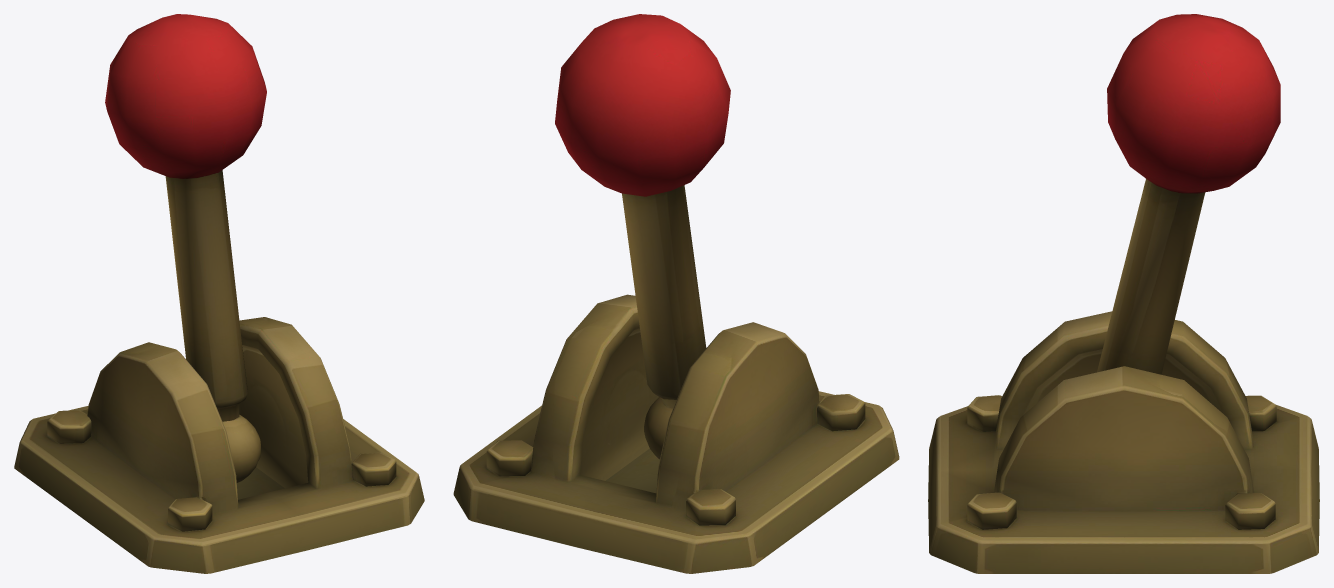
File: lever.glb
3 renders of one model, left to right at view 1: azimuth 30°, elevation 25°; view 2: azimuth 150°, elevation 25°; view 3: azimuth 270°, elevation 25°, orthographic. The views are drawn at different scales.
Parts seen in each view (by area): view 1: tripo_node_d3f23180-7a76-4780-a2c4-ae8a436ed947; view 2: tripo_node_d3f23180-7a76-4780-a2c4-ae8a436ed947; view 3: tripo_node_d3f23180-7a76-4780-a2c4-ae8a436ed947.
Boxes of the visible parts, x1,y1,x2,y2 form: tripo_node_d3f23180-7a76-4780-a2c4-ae8a436ed947: (14,14,424,573); tripo_node_d3f23180-7a76-4780-a2c4-ae8a436ed947: (453,14,899,573); tripo_node_d3f23180-7a76-4780-a2c4-ae8a436ed947: (928,14,1319,573).
Size of the model in its own units: 0.6582 by 0.998 by 0.7441.
1 material, 1 textured.
